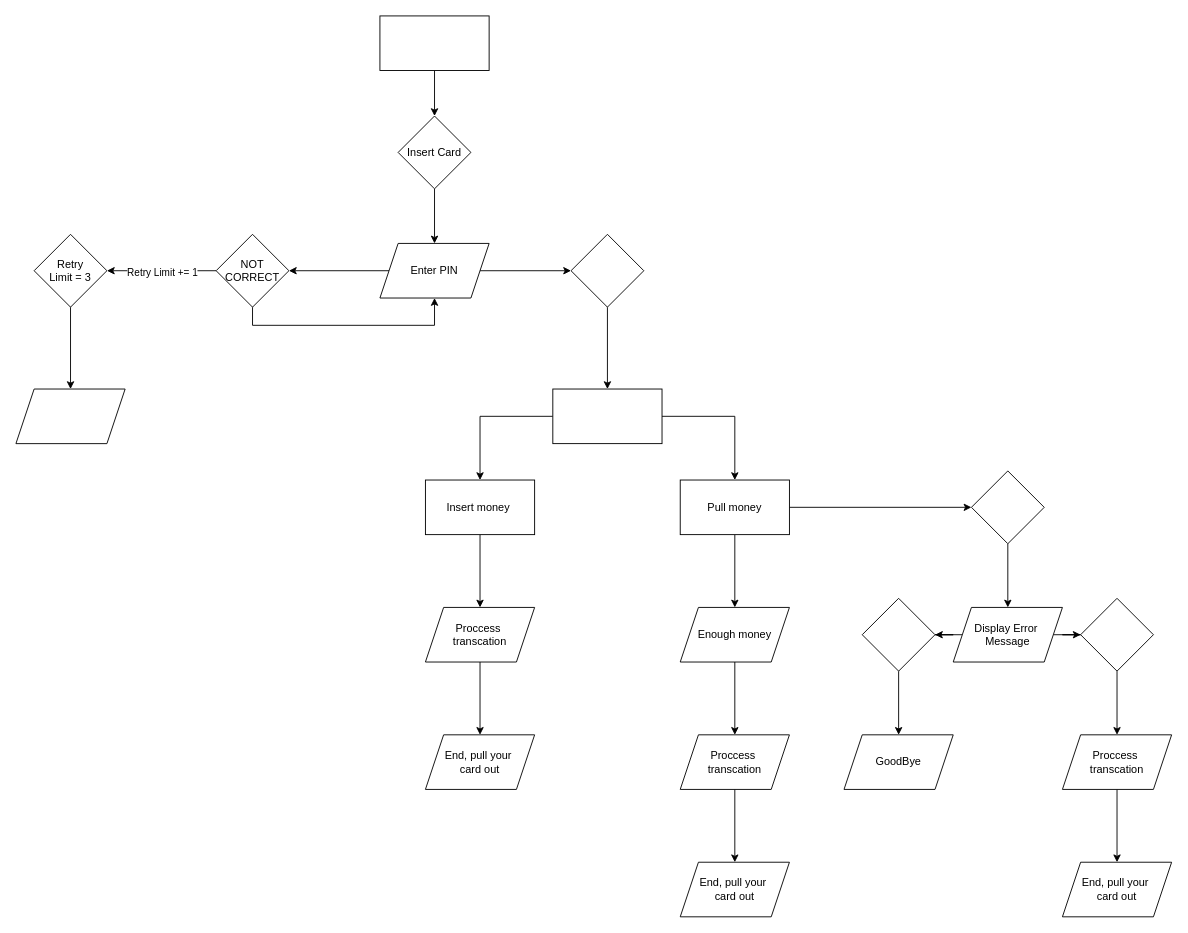
This 1188x933 diagram has some shape labels left out. The shapes that lost their labels are listed below. From the top down, each one's centre as x and y in pixels, then its label:
At (x=434, y=43): "Start".
At (x=607, y=270): "CORRECT".
At (x=70, y=416): "Goodbye card has retain.".
At (x=607, y=416): "Select Transcartion".
At (x=1007, y=507): "Not enough balance".
At (x=898, y=634): "Cancel the pull money".
At (x=1116, y=634): "Choose different amount".
